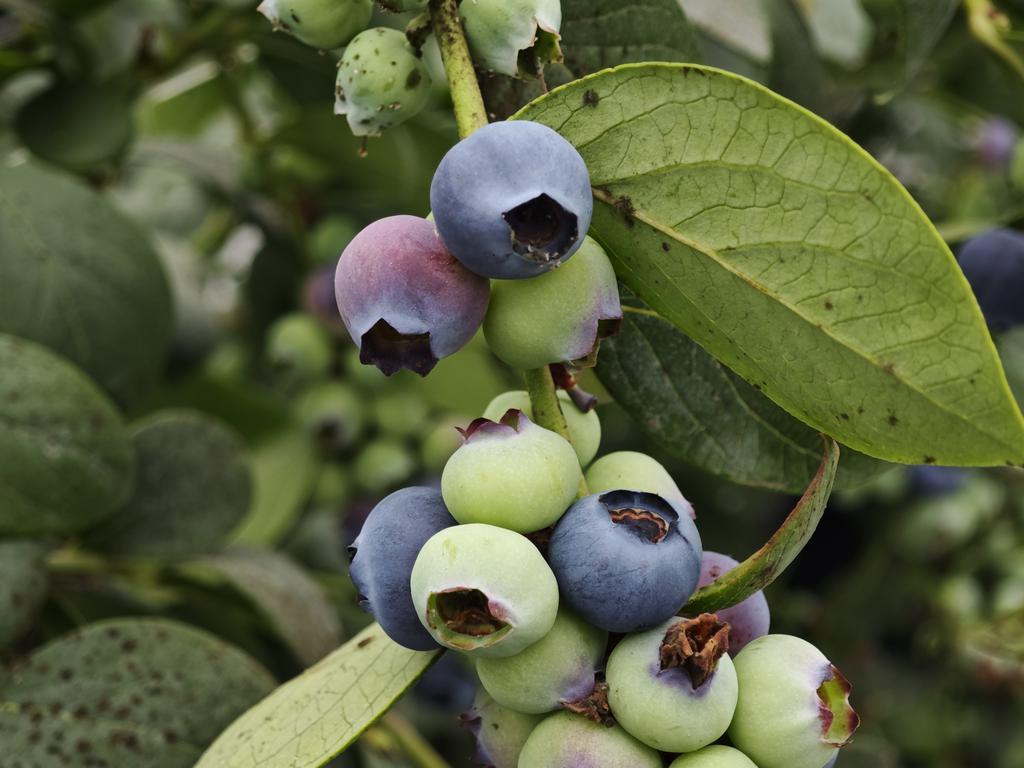RipeBlueBerry: (433, 121, 593, 281), (558, 484, 702, 629), (412, 522, 560, 658)
Semi-RipeBlueBerry: (336, 209, 490, 377)
UnripeBlueBerry: (608, 617, 737, 751), (738, 631, 860, 768), (442, 413, 581, 529)
